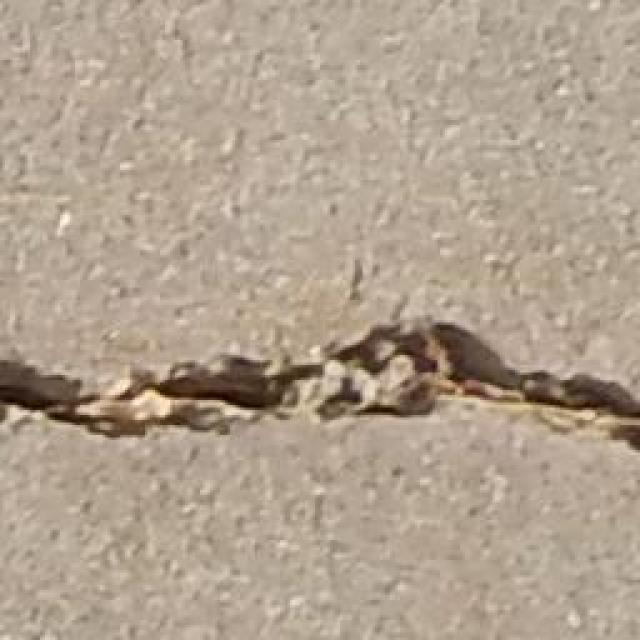concrete-crack: (0, 314, 640, 466)
